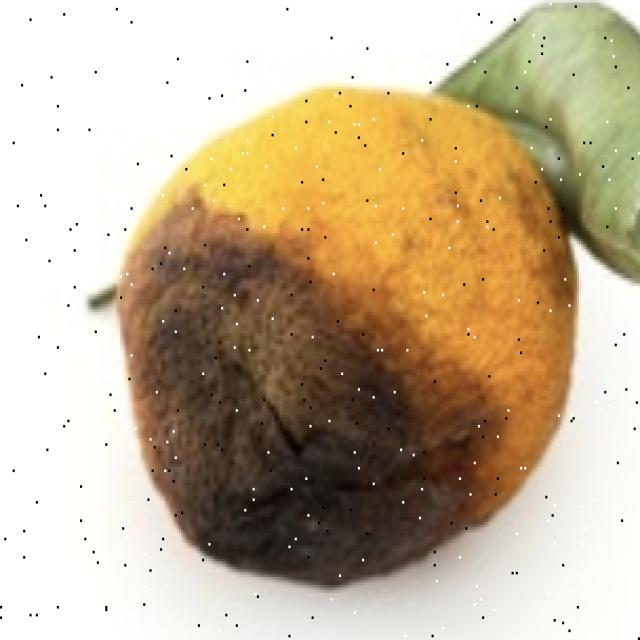sangat_busuk: (119, 81, 574, 584)
